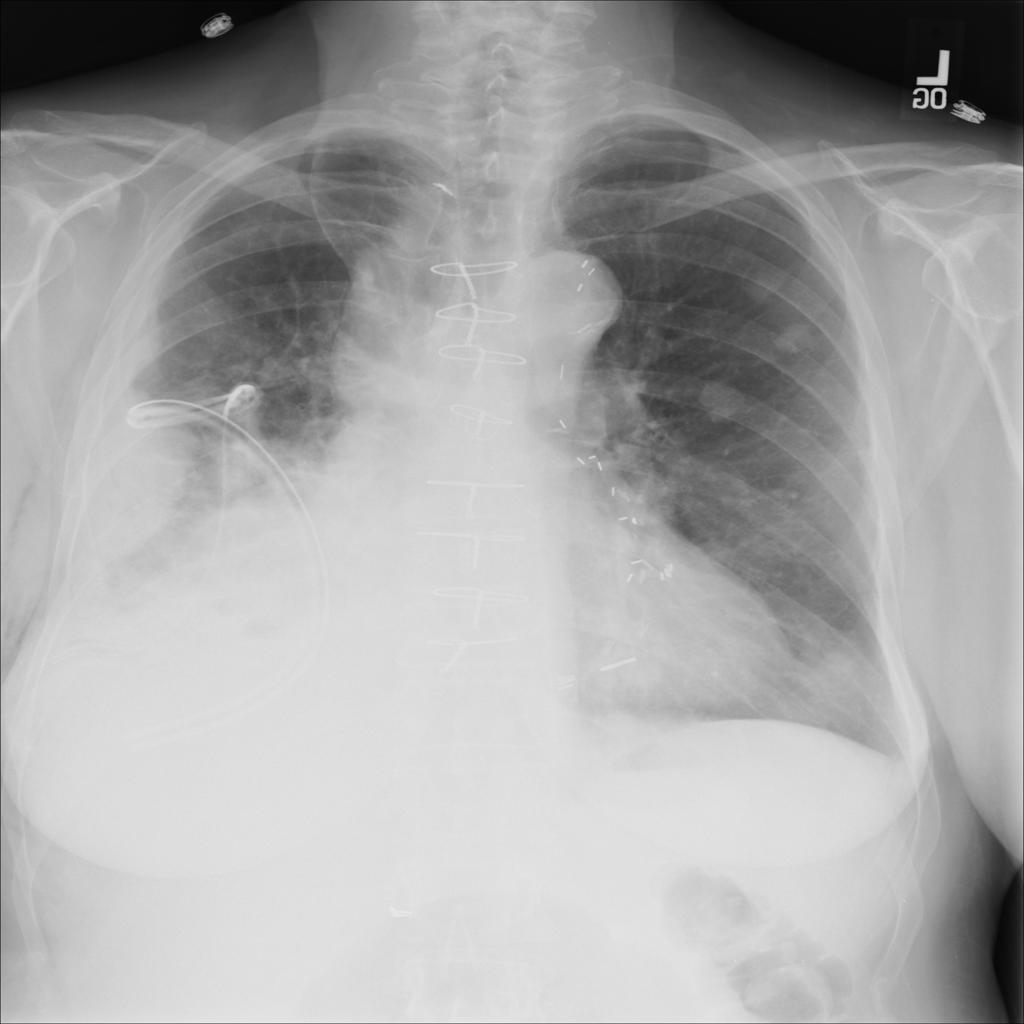nodule: (729, 252, 809, 316), (750, 309, 835, 369), (687, 366, 759, 434)
